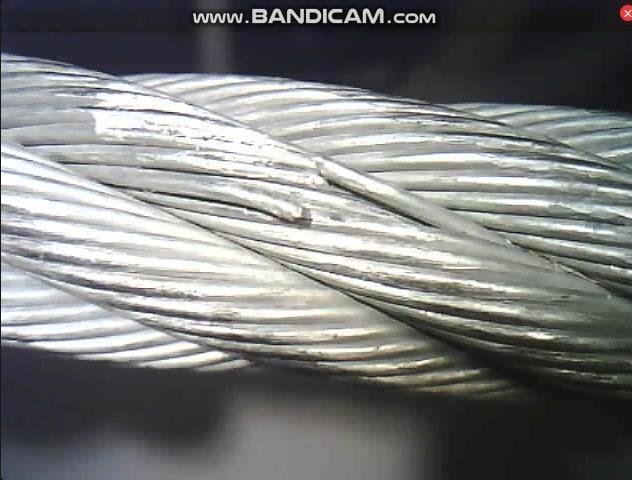break: (253, 150, 349, 235)
